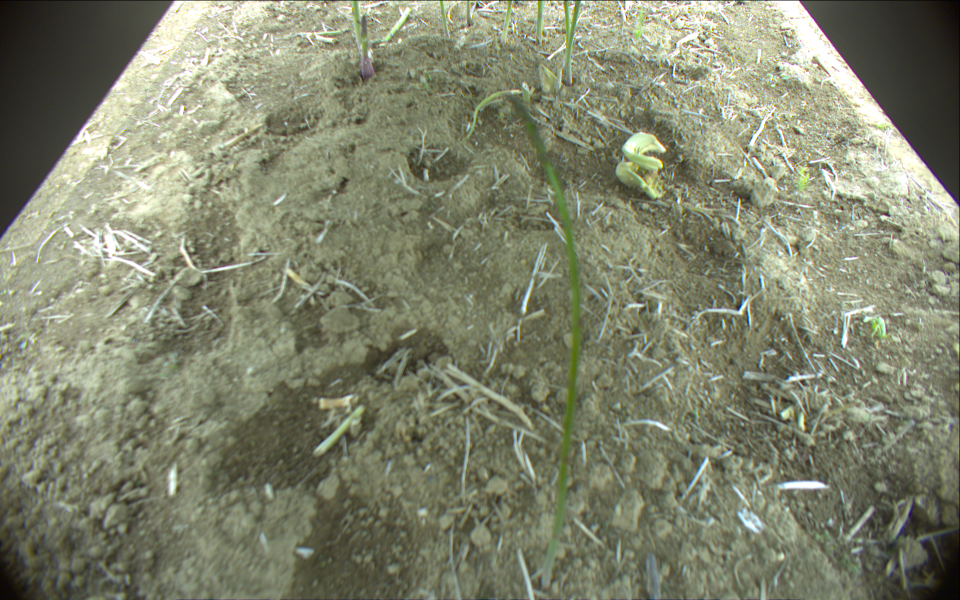aspa: (505, 92, 580, 598), (371, 3, 412, 54), (566, 1, 580, 80), (359, 16, 375, 76), (302, 25, 349, 39), (438, 1, 453, 43), (500, 1, 516, 40), (351, 1, 363, 51), (559, 1, 572, 40), (533, 1, 543, 46), (463, 1, 475, 26)
